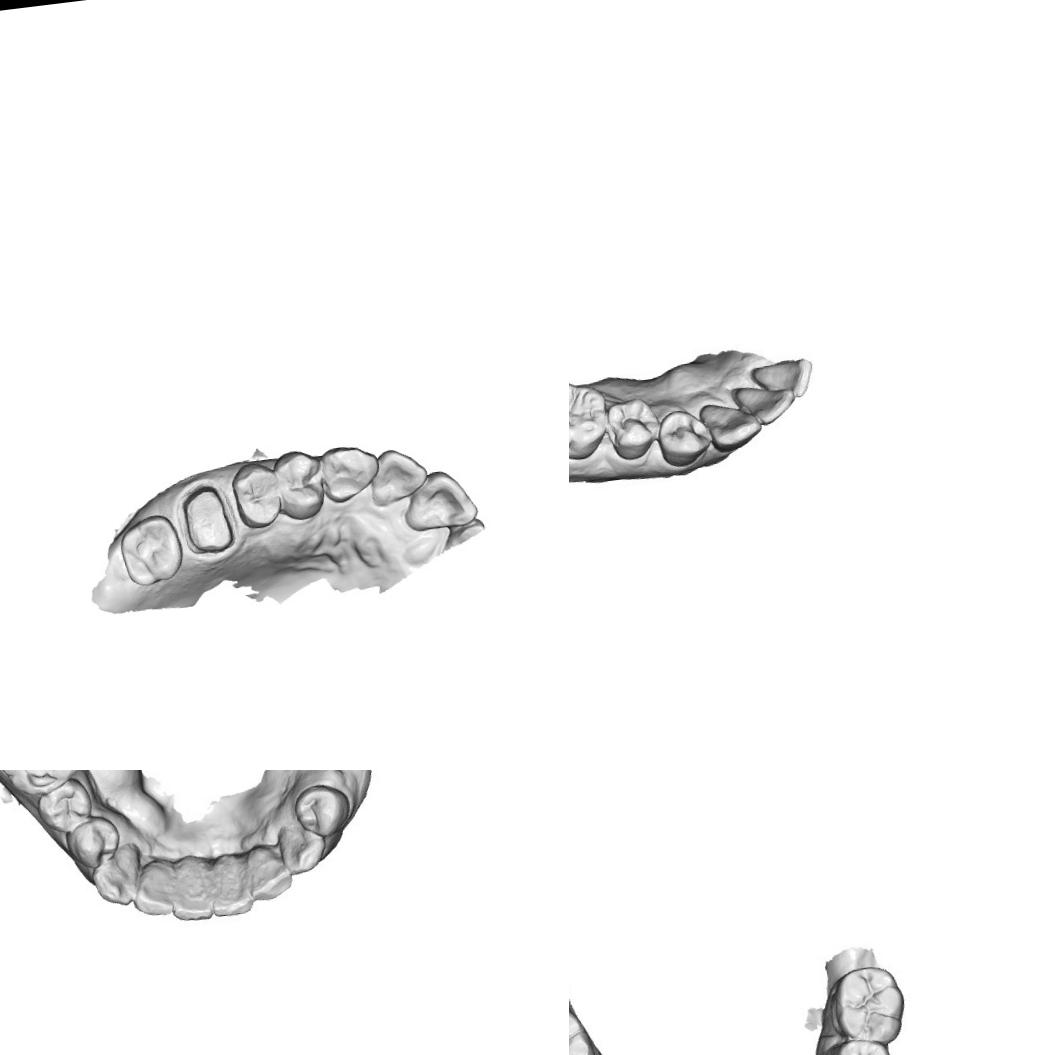canine: (314, 436, 384, 508), (698, 393, 764, 457), (91, 846, 143, 910), (277, 819, 328, 876), (319, 770, 367, 792)
crown: (174, 479, 243, 560)
incisor: (396, 465, 473, 536), (364, 442, 435, 508), (166, 857, 216, 927), (240, 840, 294, 904), (746, 353, 814, 403), (732, 380, 801, 429), (128, 858, 180, 920), (208, 862, 255, 922)
inlay: (0, 770, 69, 792)
molar: (831, 961, 911, 1045), (115, 511, 187, 590), (569, 372, 611, 465), (569, 998, 595, 1055)
premolar: (269, 436, 329, 524), (226, 454, 288, 534), (653, 405, 719, 476), (601, 394, 664, 462), (290, 778, 352, 840), (32, 776, 96, 836), (64, 812, 124, 872), (833, 1031, 900, 1055)
